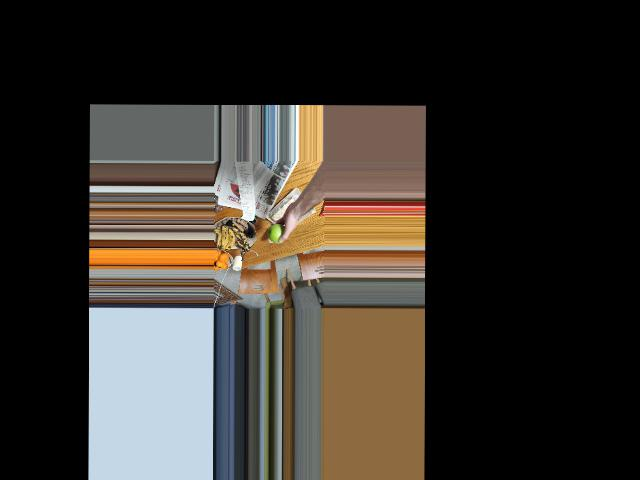apple: (267, 220, 287, 244)
